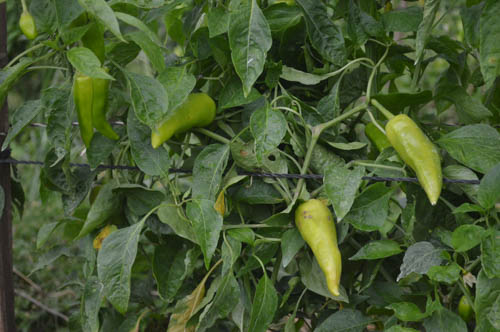ChiliPepper: (388, 115, 443, 206), (302, 199, 344, 299), (149, 93, 218, 149), (92, 74, 121, 139), (72, 77, 96, 145)
